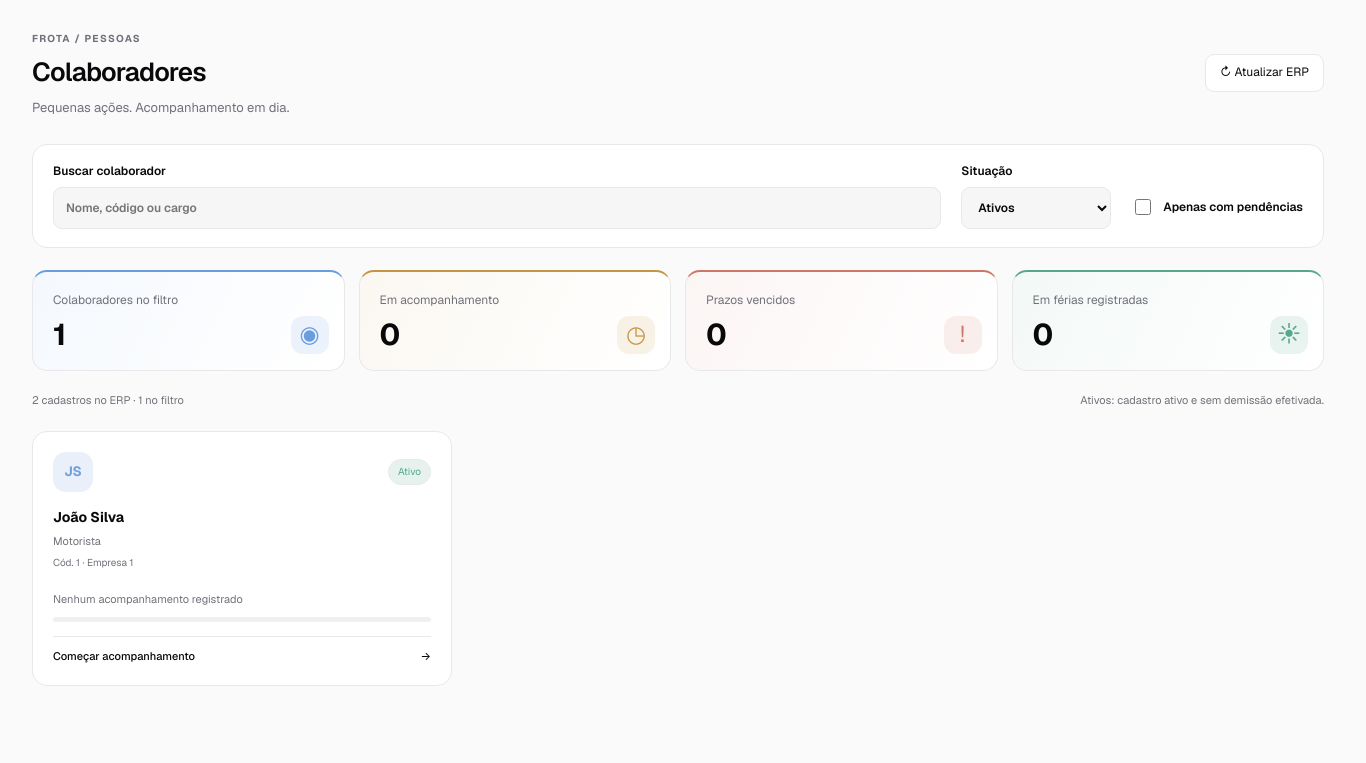
it: read-only users cannot create records
Step 1. Click the button "João Silva" → (73, 472), box [32, 431, 452, 686]
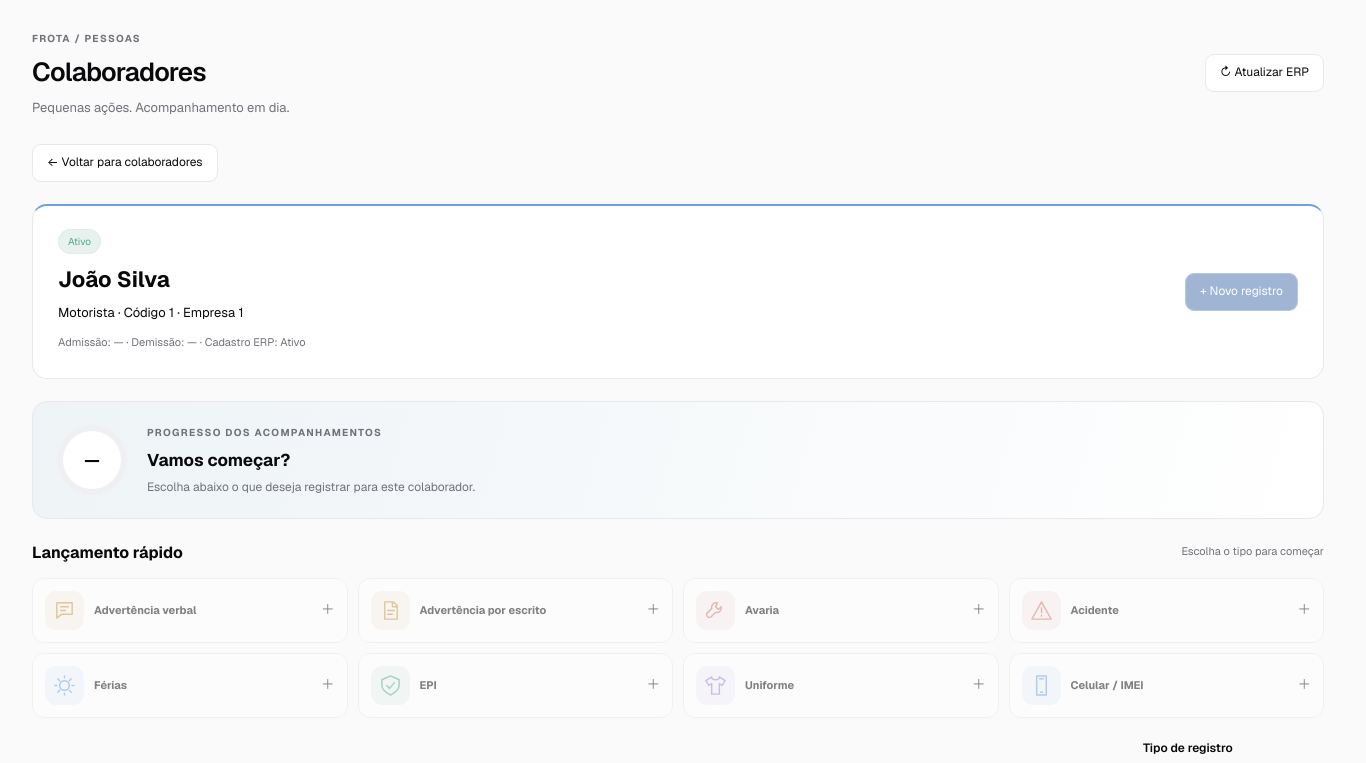
Expected: the button "+ Novo registro" is disabled, [1185, 273, 1298, 311]
